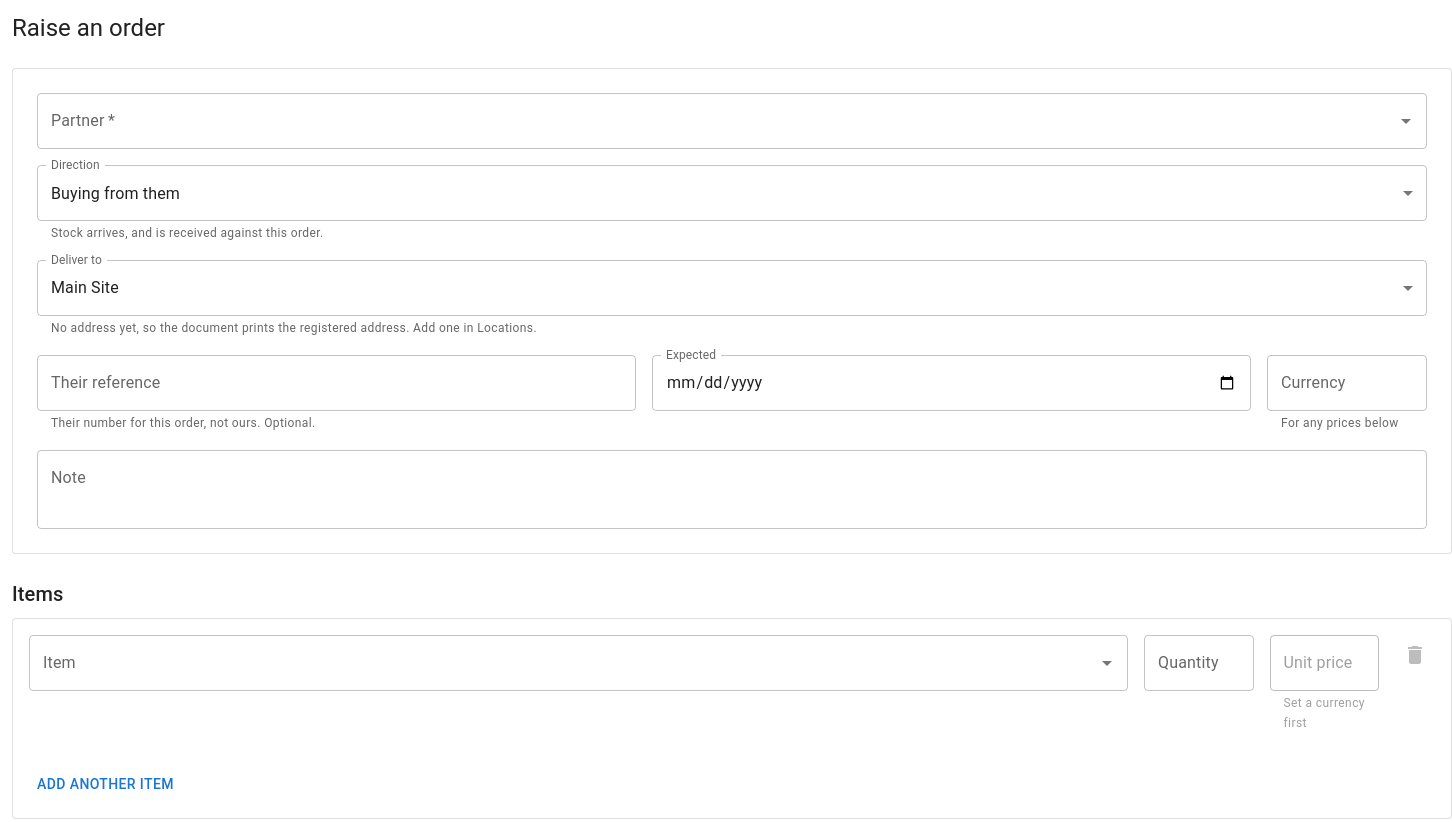
Test: CreateOrderPage Partner › finds a partner by its pinyin
In the dropdown labelled "Partner": (717, 121) 46,102 -> 1388,140, type "mdyf"
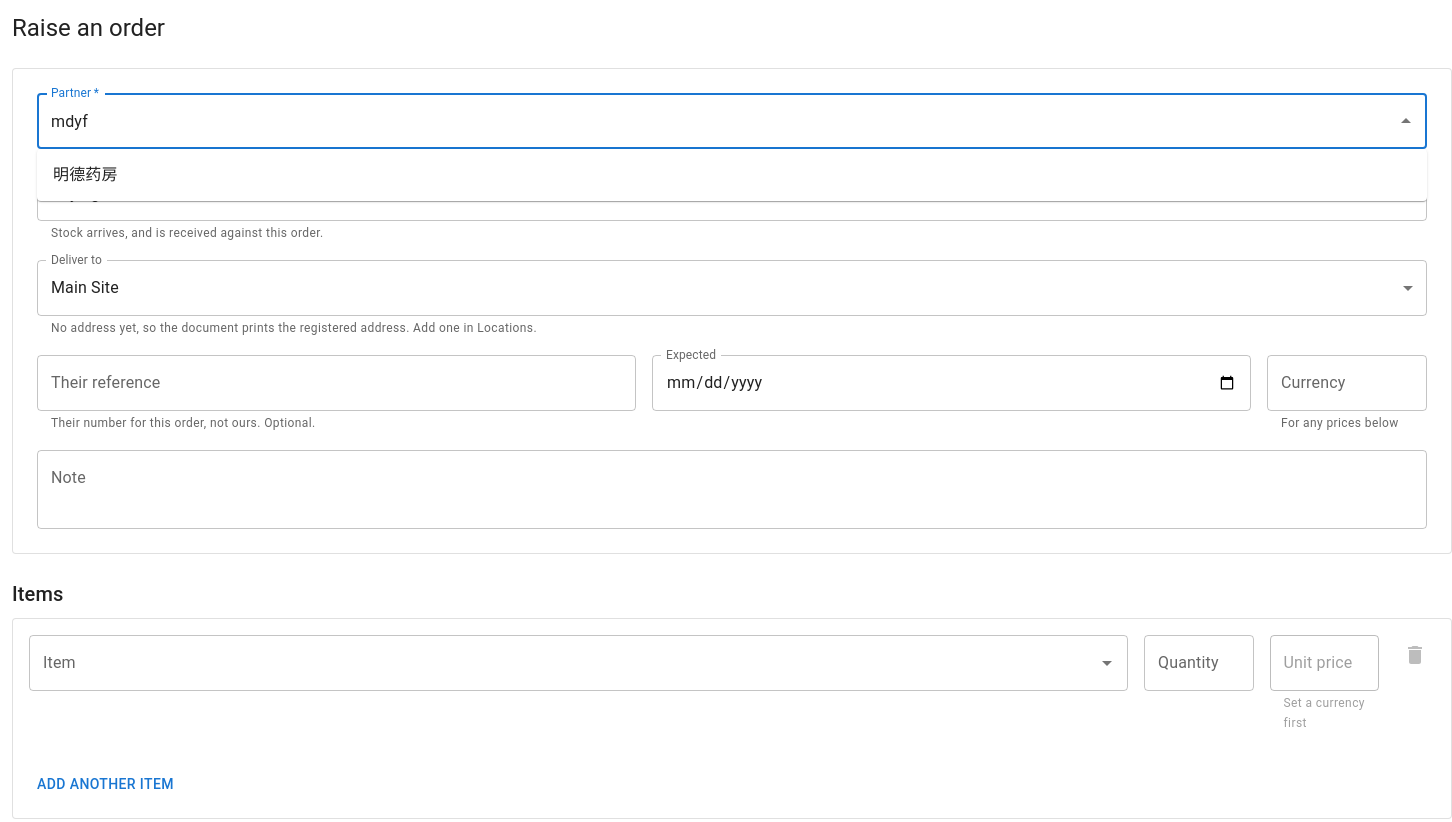
Click the option "明德药房": click(85, 174) 53,165 -> 118,184
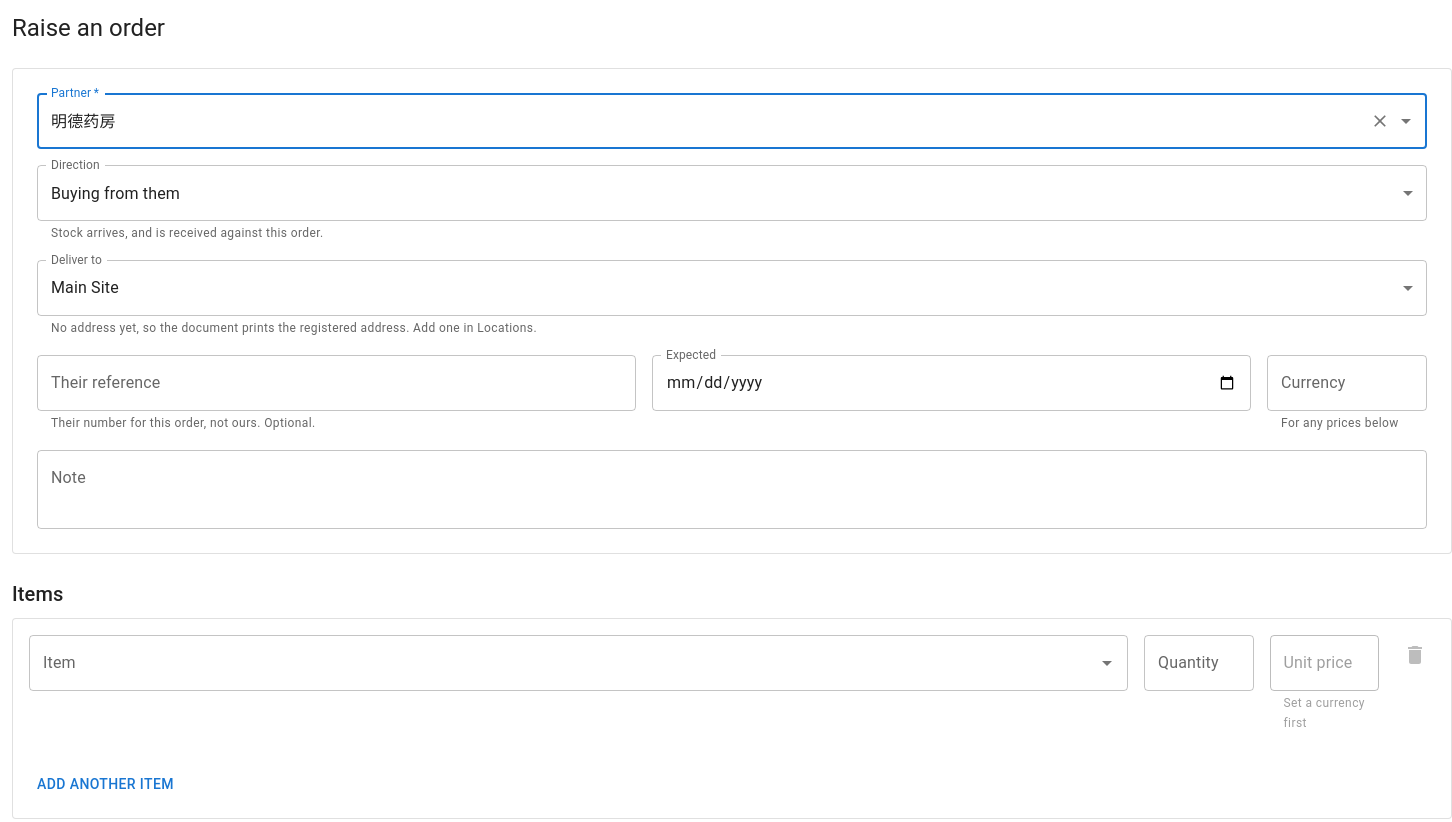
Now the dropdown labelled "Partner" holds "明德药房", box 46,102 -> 1362,140
